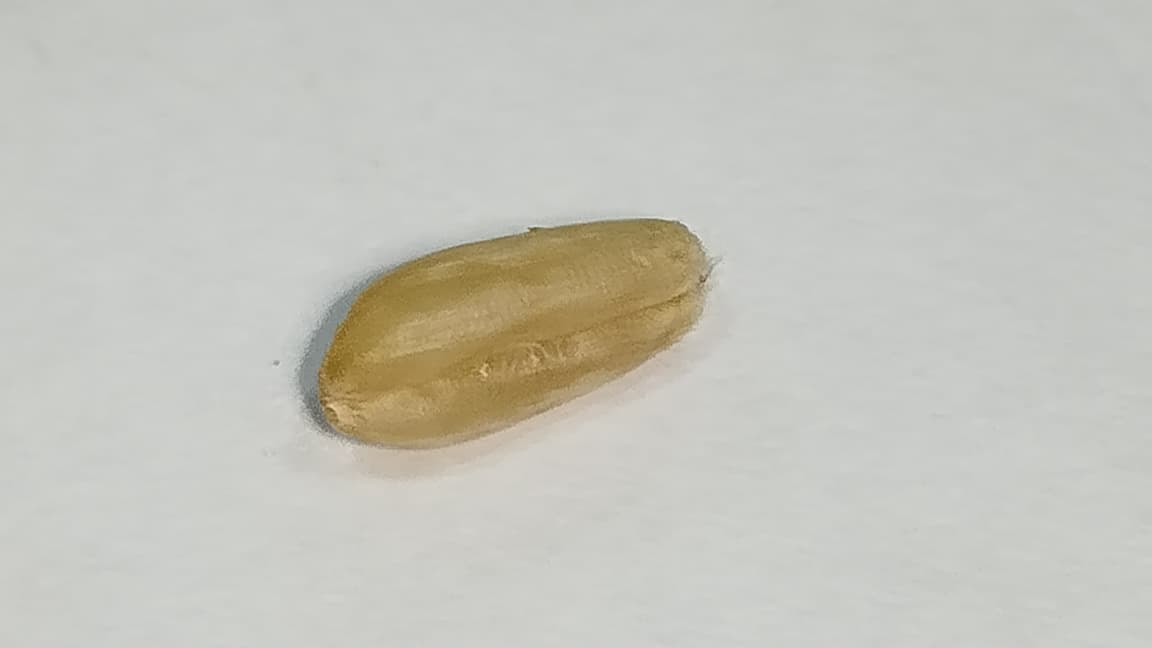healthy: (319, 219, 708, 445)
